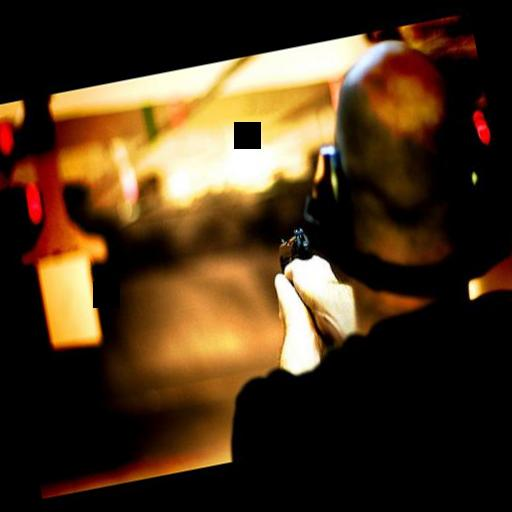Handgun: (270, 224, 330, 346)
